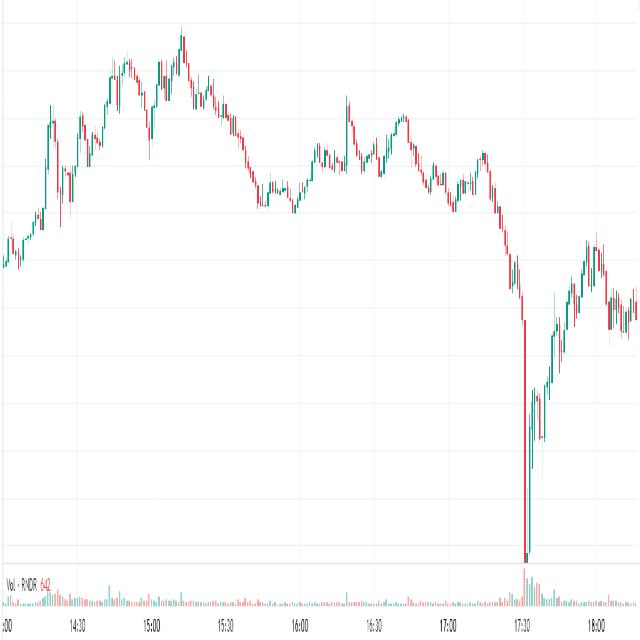Channel-up: (3, 18, 151, 305), (514, 190, 612, 507)
